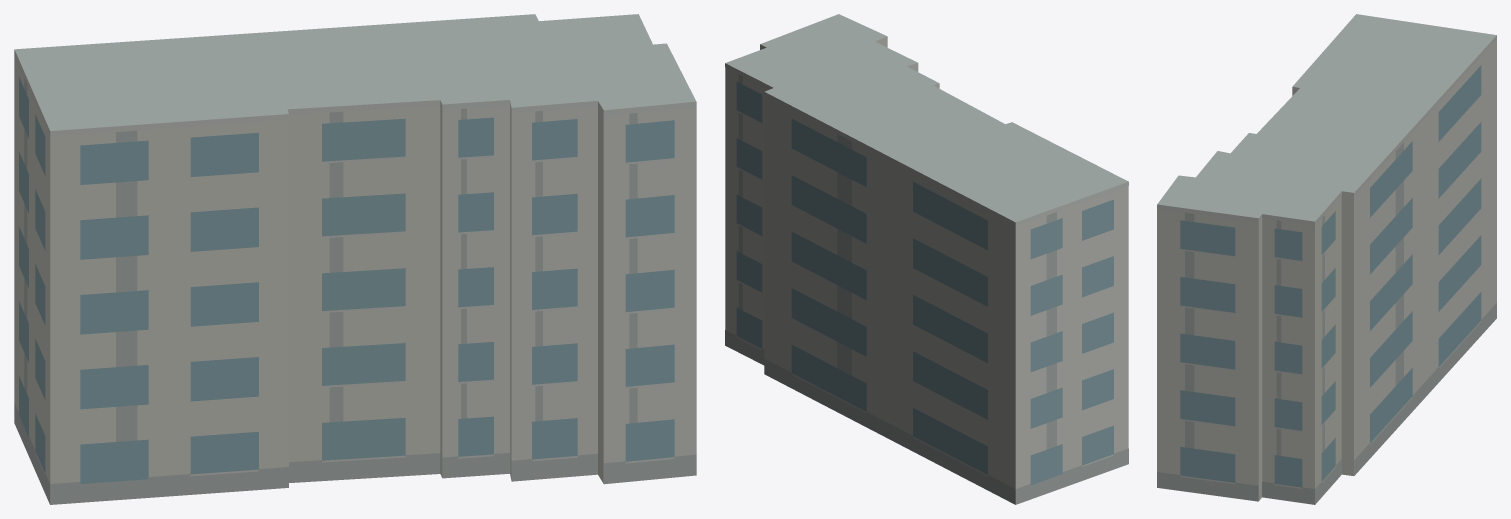
The model's file is survey-upis-32954911.glb.
The picture shows the model from 3 angles, left to right: view 1: azimuth 30°, elevation 25°; view 2: azimuth 150°, elevation 25°; view 3: azimuth 270°, elevation 25°; orthographic projection. The views are drawn at different scales.
Parts seen in each view (by area): view 1: survey-upis-32954911.tmp; view 2: survey-upis-32954911.tmp; view 3: survey-upis-32954911.tmp.
Part boxes in pixels (x1,y1,x2,y2): survey-upis-32954911.tmp: [14, 14, 696, 504]; survey-upis-32954911.tmp: [725, 14, 1128, 504]; survey-upis-32954911.tmp: [1157, 14, 1496, 504].
Bounding box in the file's own units: 24.99 × 15.9 × 17.29.
